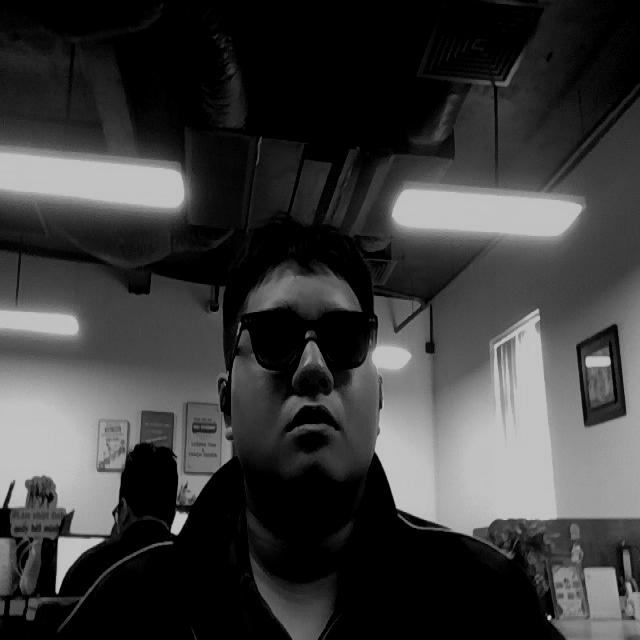fake: (226, 303, 381, 376)
real: (217, 220, 382, 496)
